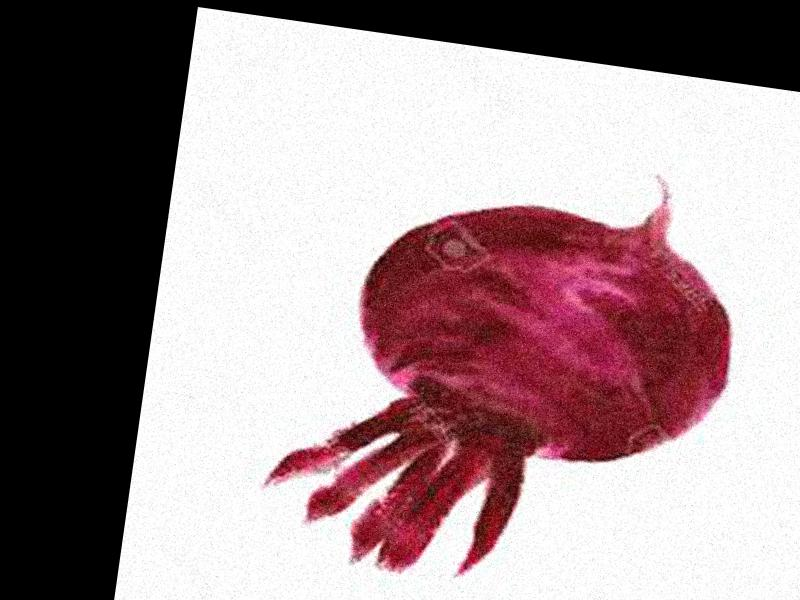Beet: (256, 124, 757, 600)
